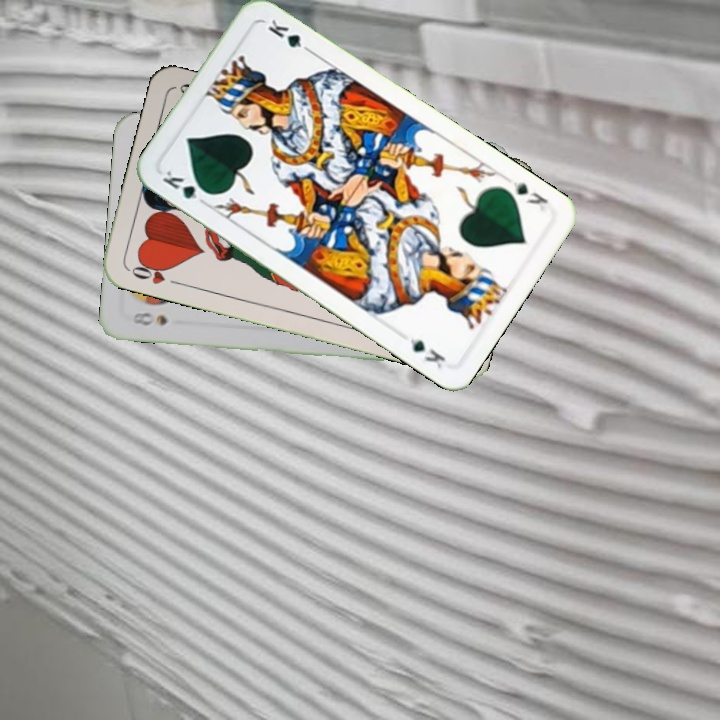GK: (158, 166, 214, 202), (508, 177, 551, 214)
HO: (125, 256, 183, 288)
S8: (128, 308, 170, 328)
